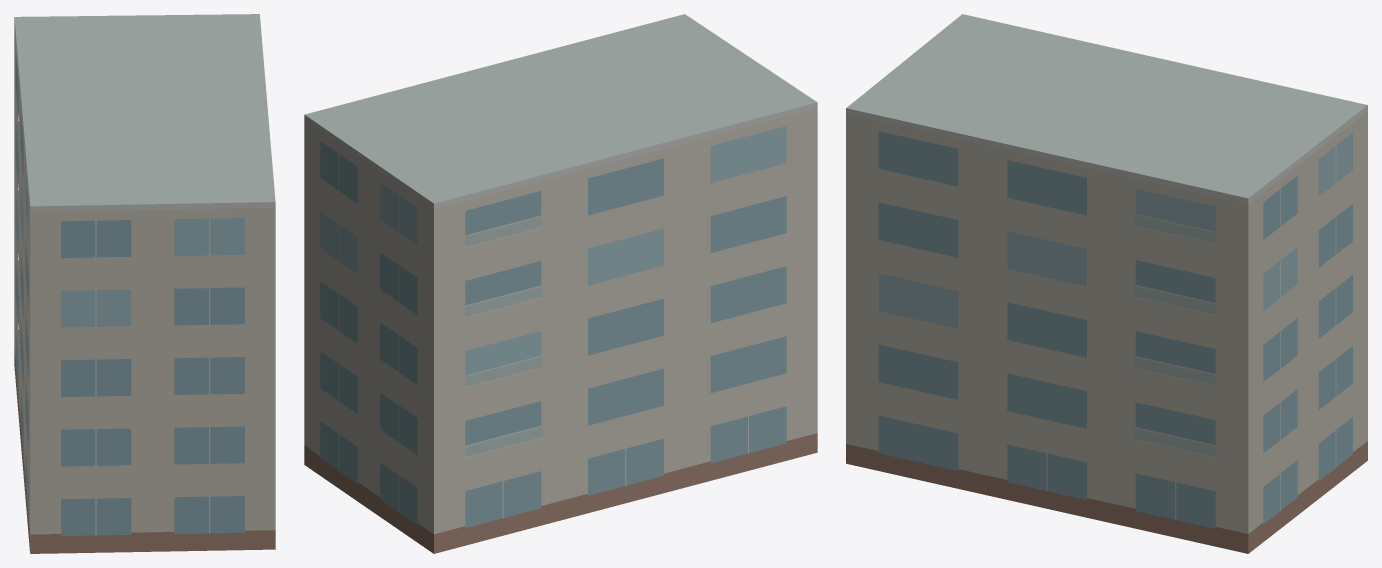
Rendered from survey-upis-32657338.glb.
3 renders of one model, left to right at view 1: azimuth 30°, elevation 25°; view 2: azimuth 150°, elevation 25°; view 3: azimuth 270°, elevation 25°, orthographic. The views are drawn at different scales.
Parts seen in each view (by area): view 1: survey-upis-32657338.tmp; view 2: survey-upis-32657338.tmp; view 3: survey-upis-32657338.tmp.
Boxes of the visible parts, x1=… form: survey-upis-32657338.tmp: x1=14, y1=14, x2=275, y2=553; survey-upis-32657338.tmp: x1=304, y1=14, x2=817, y2=553; survey-upis-32657338.tmp: x1=846, y1=14, x2=1367, y2=553.
Bounding box in the file's own units: 16.44 × 14.77 × 19.66.
